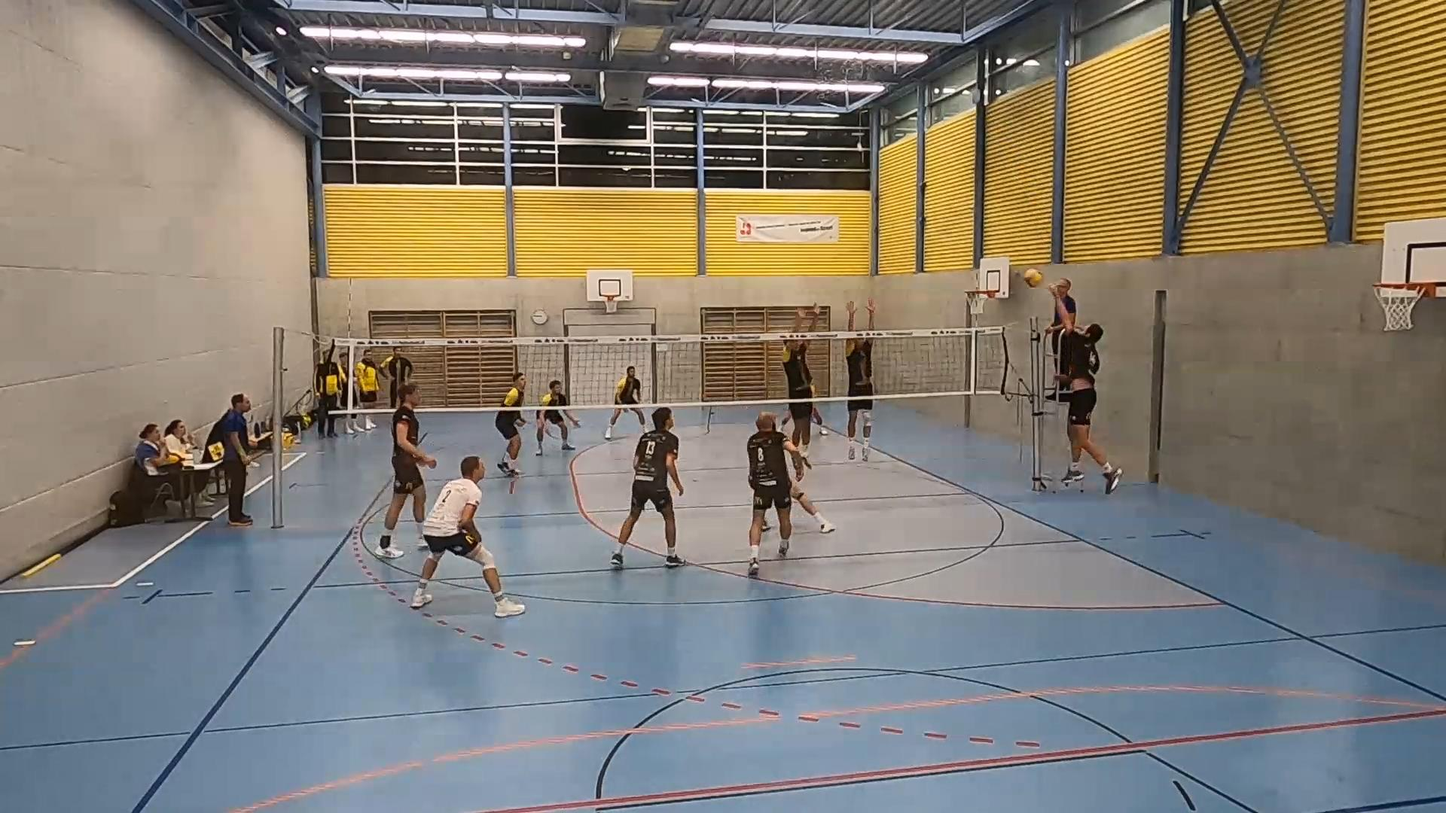attacco: (1047, 290, 1125, 497)
muro: (767, 305, 826, 472), (836, 294, 879, 465)
